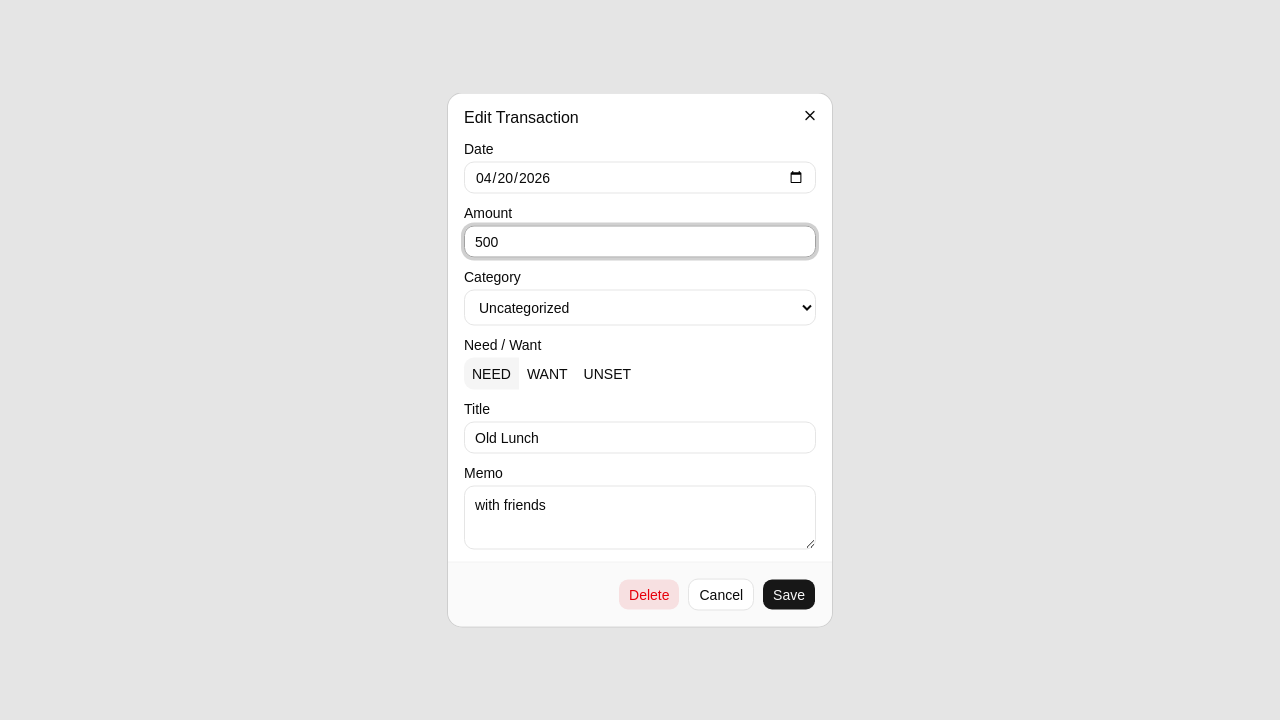
Test: TransactionFormModal › edit mode › shows 'Transaction updated' toast on success
Click the button "Save". click: [789, 594]
box: [762,578,816,610]
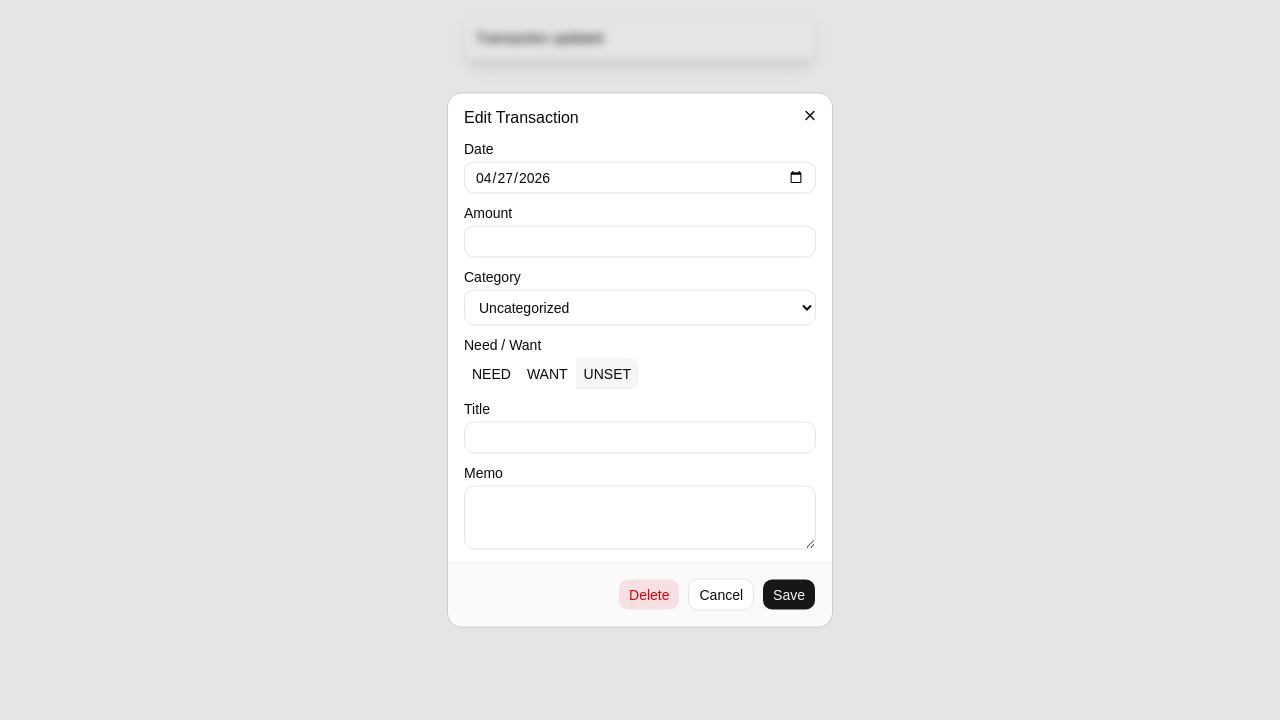
Expected: the text "Transaction updated" is shown, [476,30,603,46]
